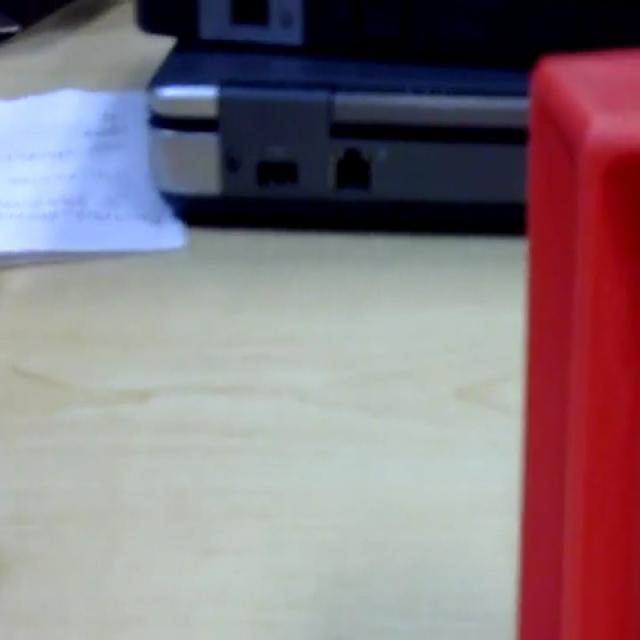red_block: (516, 44, 638, 636)
